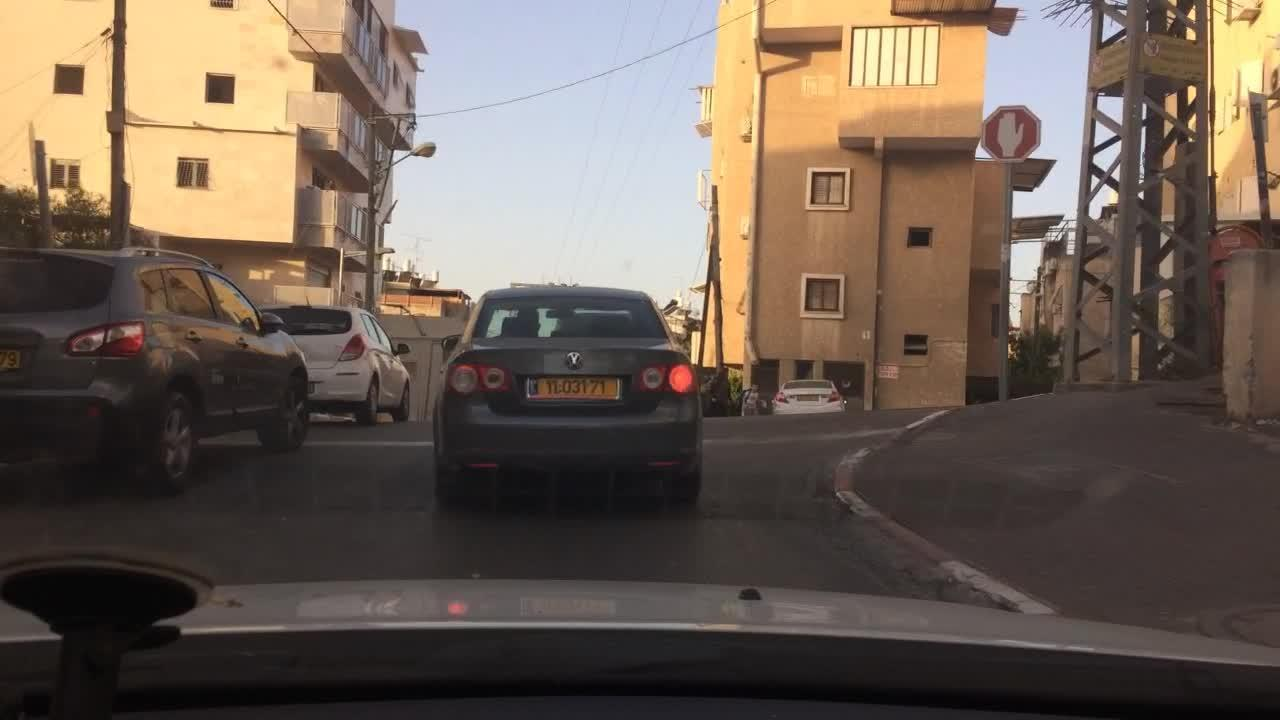Volkswagen: (561, 352, 587, 372)
